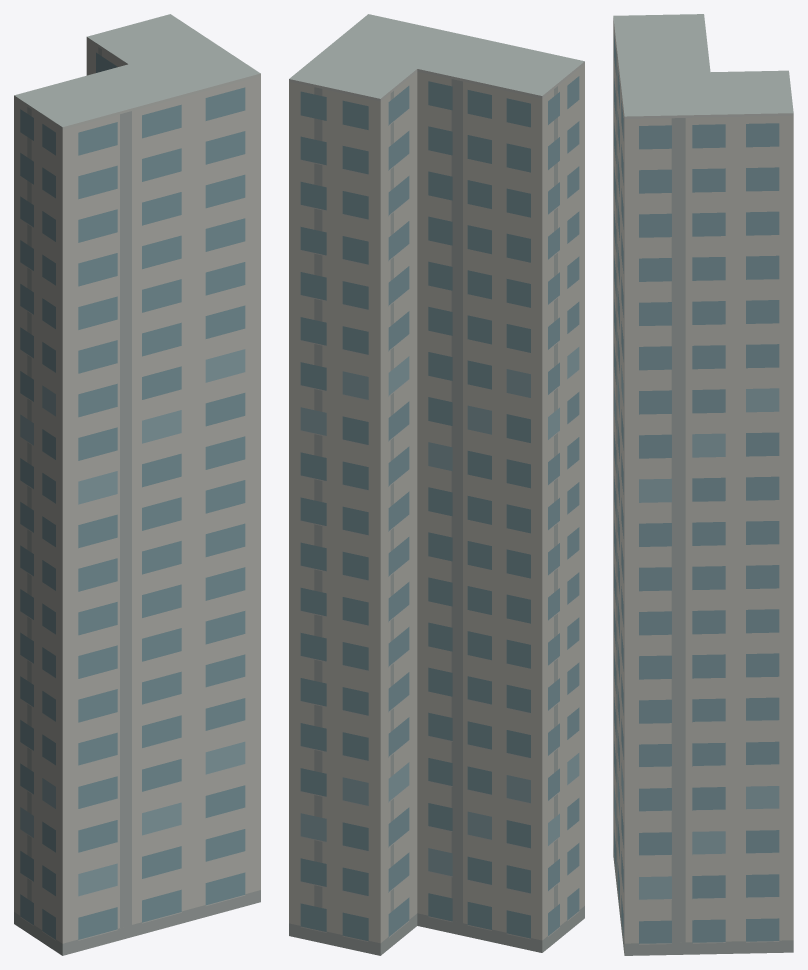
Rendered from residential-e994cc2d-d501-4bd8-9449-79fe646a9e59.glb.
The picture shows the model from 3 angles, left to right: view 1: azimuth 30°, elevation 25°; view 2: azimuth 150°, elevation 25°; view 3: azimuth 270°, elevation 25°; orthographic projection. The views are drawn at different scales.
Visible parts, largest first — view 1: residential-e994cc2d-d501-4bd8-9449-79fe646a9e59.tmp; view 2: residential-e994cc2d-d501-4bd8-9449-79fe646a9e59.tmp; view 3: residential-e994cc2d-d501-4bd8-9449-79fe646a9e59.tmp.
Part boxes in pixels (box(x1,y1,x2,y2)): residential-e994cc2d-d501-4bd8-9449-79fe646a9e59.tmp: box(14, 14, 260, 955); residential-e994cc2d-d501-4bd8-9449-79fe646a9e59.tmp: box(289, 14, 584, 955); residential-e994cc2d-d501-4bd8-9449-79fe646a9e59.tmp: box(613, 14, 793, 955).
Size of the model in its own units: 20.44 by 78 by 15.21.
